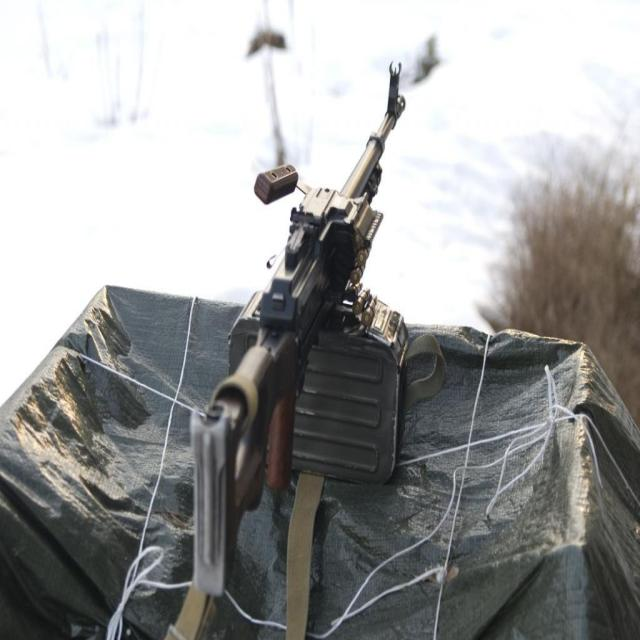firearm: (190, 59, 408, 588)
